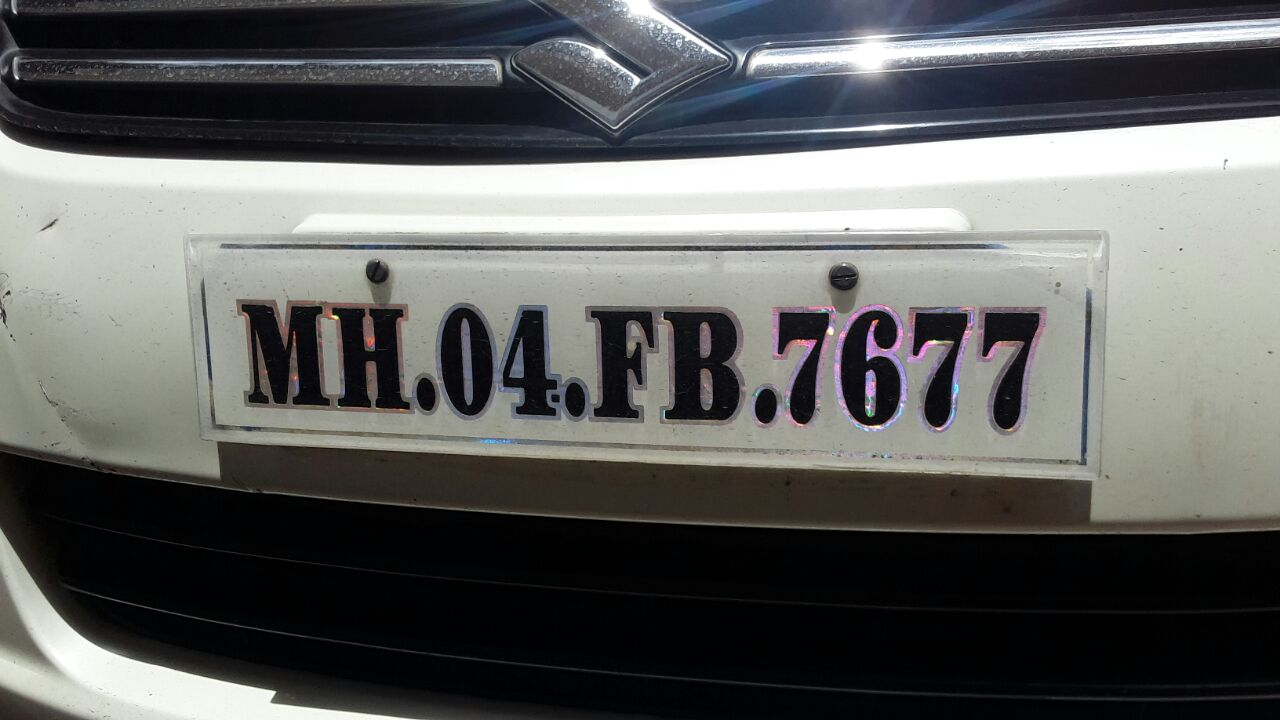licenseplate: (179, 231, 1111, 482)
